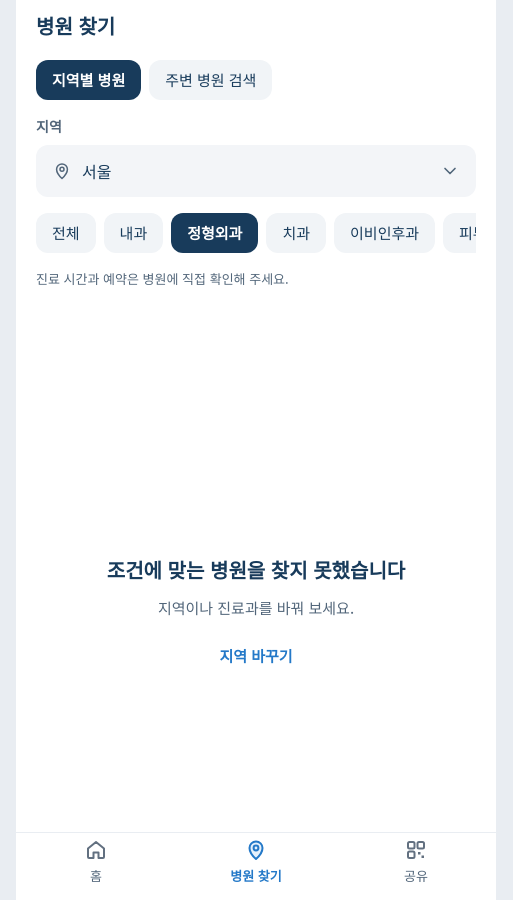
Test: 서버 401에 공통 로그인 만료 이벤트를 보낸다
The width and height of the screenshot is (513, 900).
Expected: the text "조건에 맞는 병원을 찾지 못했습니다" is shown, [107, 556, 405, 584]
Click the radio button labelled "주변 병원 검색" at (211, 80), box [149, 60, 272, 100]
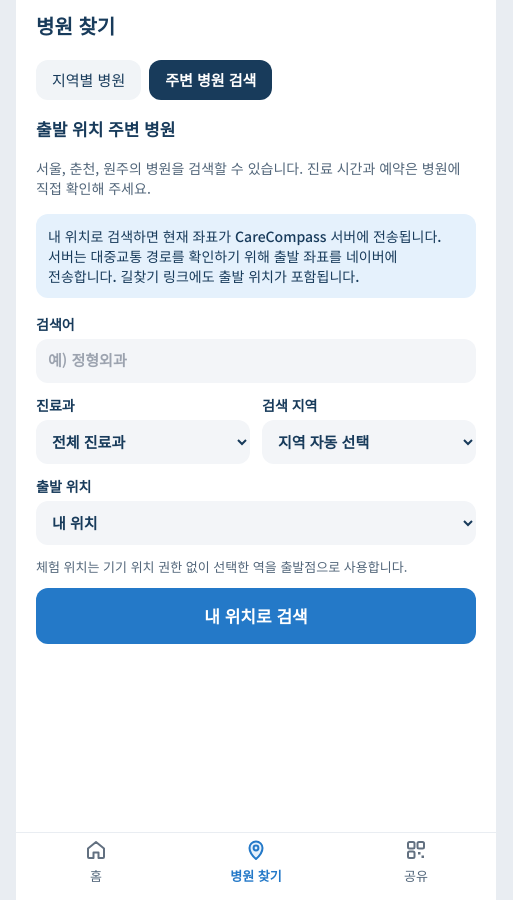
Type "정형외과" into the search field labelled "검색어" at (256, 360), box [36, 338, 476, 382]
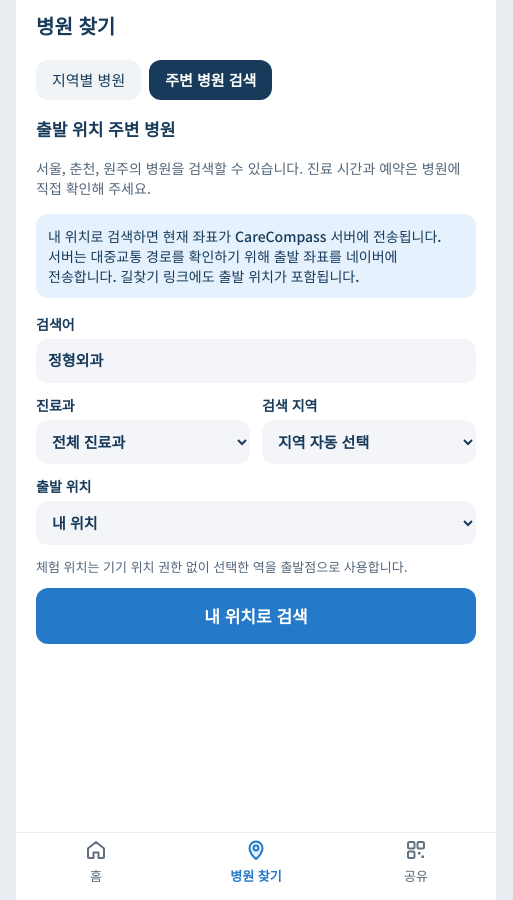
Select "체험 위치 · 서울역" in the dropdown labelled "출발 위치" at (256, 522), box [36, 500, 476, 544]
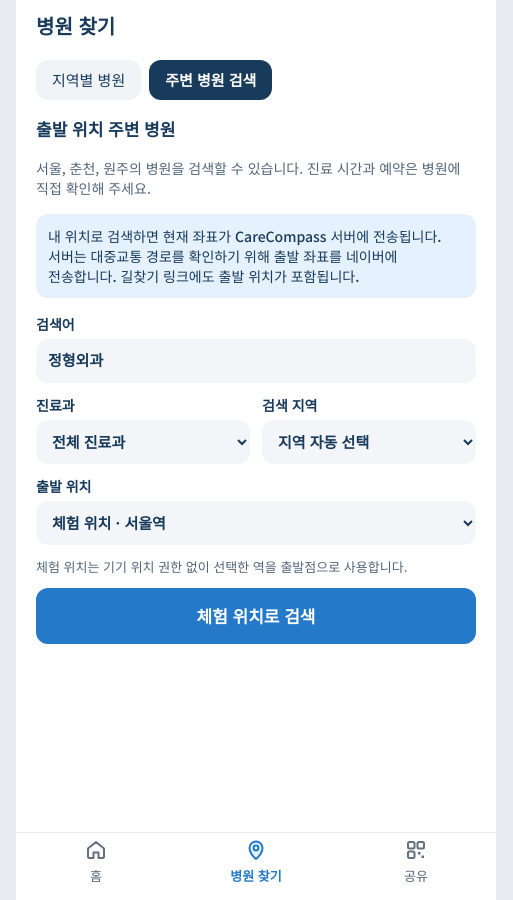
Click the button "체험 위치로 검색" at (256, 616), box [36, 588, 476, 644]
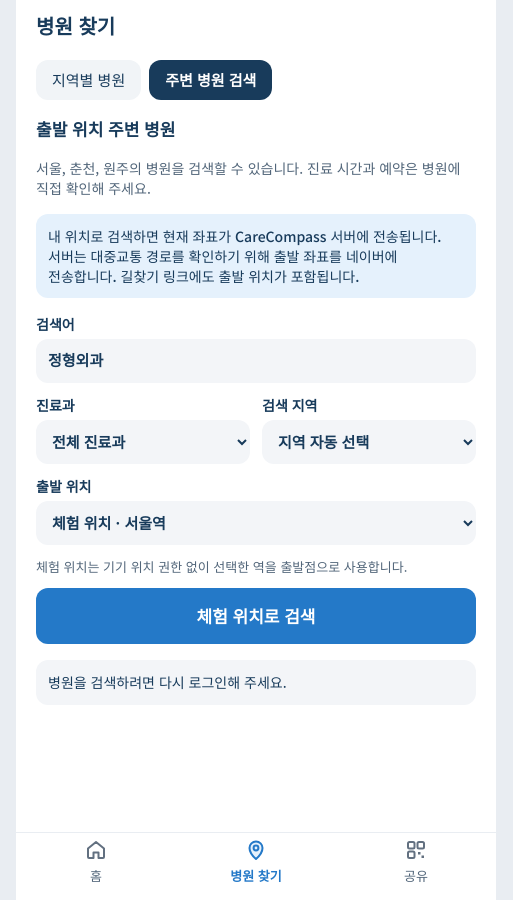
Expected: the message shows "다시 로그인해 주세요", [48, 672, 286, 692]
